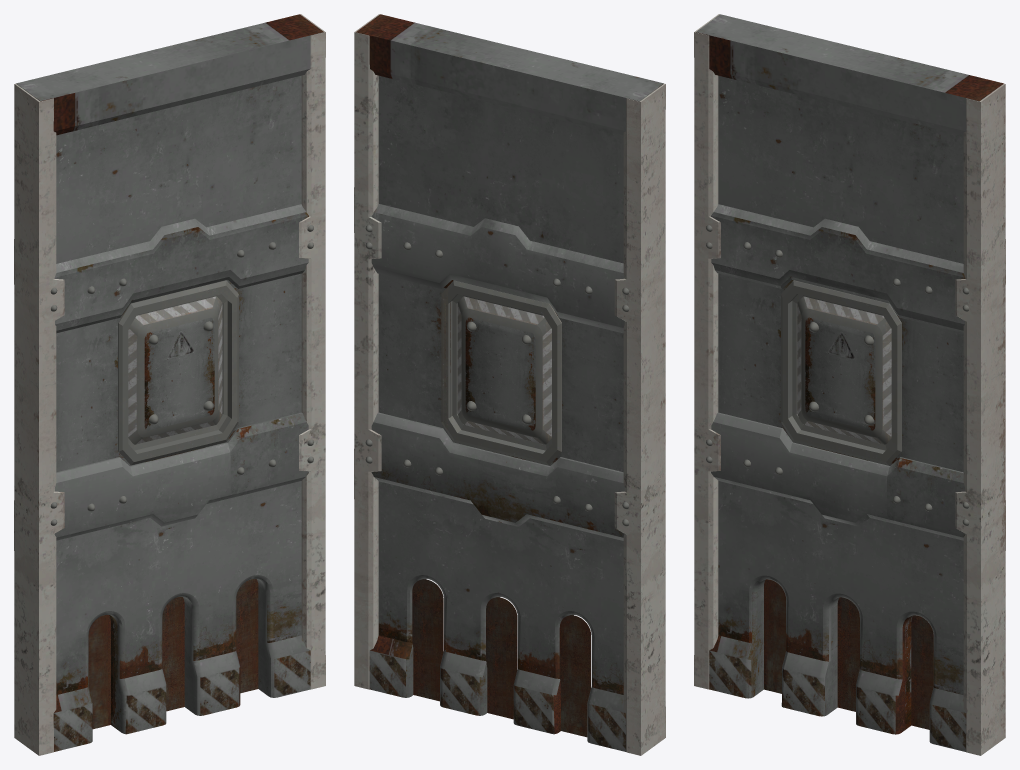
File: SM_SlidingDoor1PPT4_SM_SlidingDoor_D_mo.glb
3 renders of one model, left to right at view 1: azimuth 30°, elevation 25°; view 2: azimuth 150°, elevation 25°; view 3: azimuth 330°, elevation 25°, orthographic.
Parts seen in each view (by area): view 1: SM_SlidingDoor1PPT4_SM_SlidingDoor_D_mo; view 2: SM_SlidingDoor1PPT4_SM_SlidingDoor_D_mo; view 3: SM_SlidingDoor1PPT4_SM_SlidingDoor_D_mo.
Boxes of the visible parts, <box> form: SM_SlidingDoor1PPT4_SM_SlidingDoor_D_mo: <box>14,14,325,755</box>; SM_SlidingDoor1PPT4_SM_SlidingDoor_D_mo: <box>354,14,665,755</box>; SM_SlidingDoor1PPT4_SM_SlidingDoor_D_mo: <box>694,14,1005,755</box>.
Size of the model in its own units: 1.32 by 2.88 by 0.2266.
Materials: 2 (2 with a texture image).
